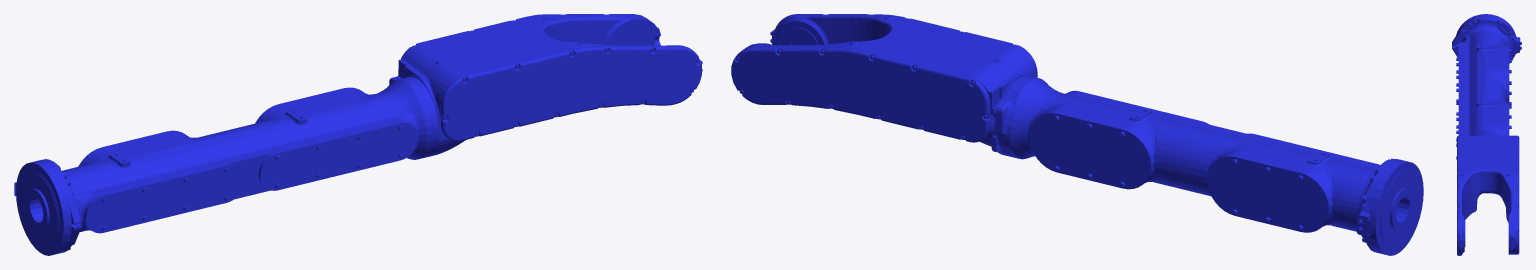
The picture shows the model from 3 angles, left to right: view 1: azimuth 30°, elevation 25°; view 2: azimuth 150°, elevation 25°; view 3: azimuth 270°, elevation 25°; orthographic projection. The views are drawn at different scales.
Visible parts, largest first — view 1: Link4; view 2: Link4; view 3: Link4.
Boxes of the visible parts, x1,y1,x2,y2 form: Link4: (14, 14, 702, 255); Link4: (731, 14, 1423, 255); Link4: (1452, 14, 1521, 255).
Bounding box in the file's own units: 1.39 × 0.2016 × 0.192.
